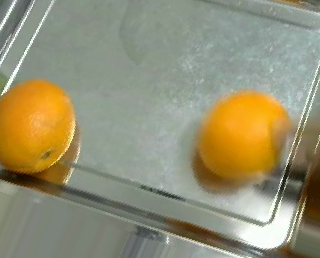Orange: (195, 90, 291, 182), (1, 77, 76, 172)
